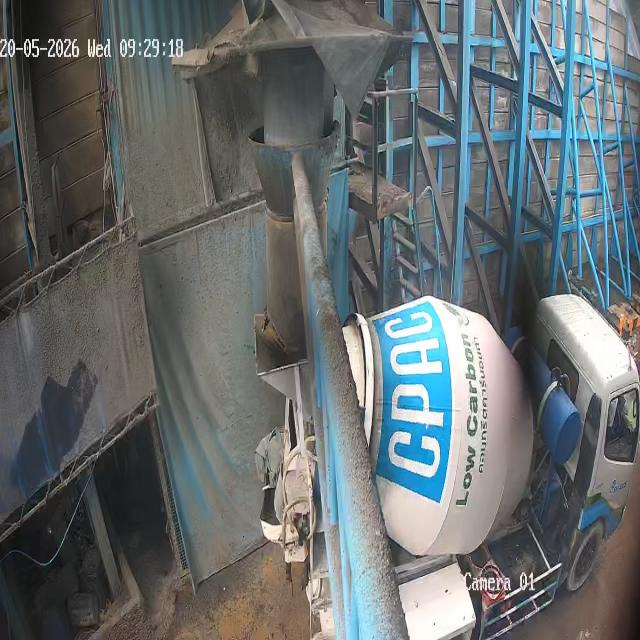cement_mixer_truck: (252, 298, 640, 640)
swing_chute: (246, 120, 344, 332)
